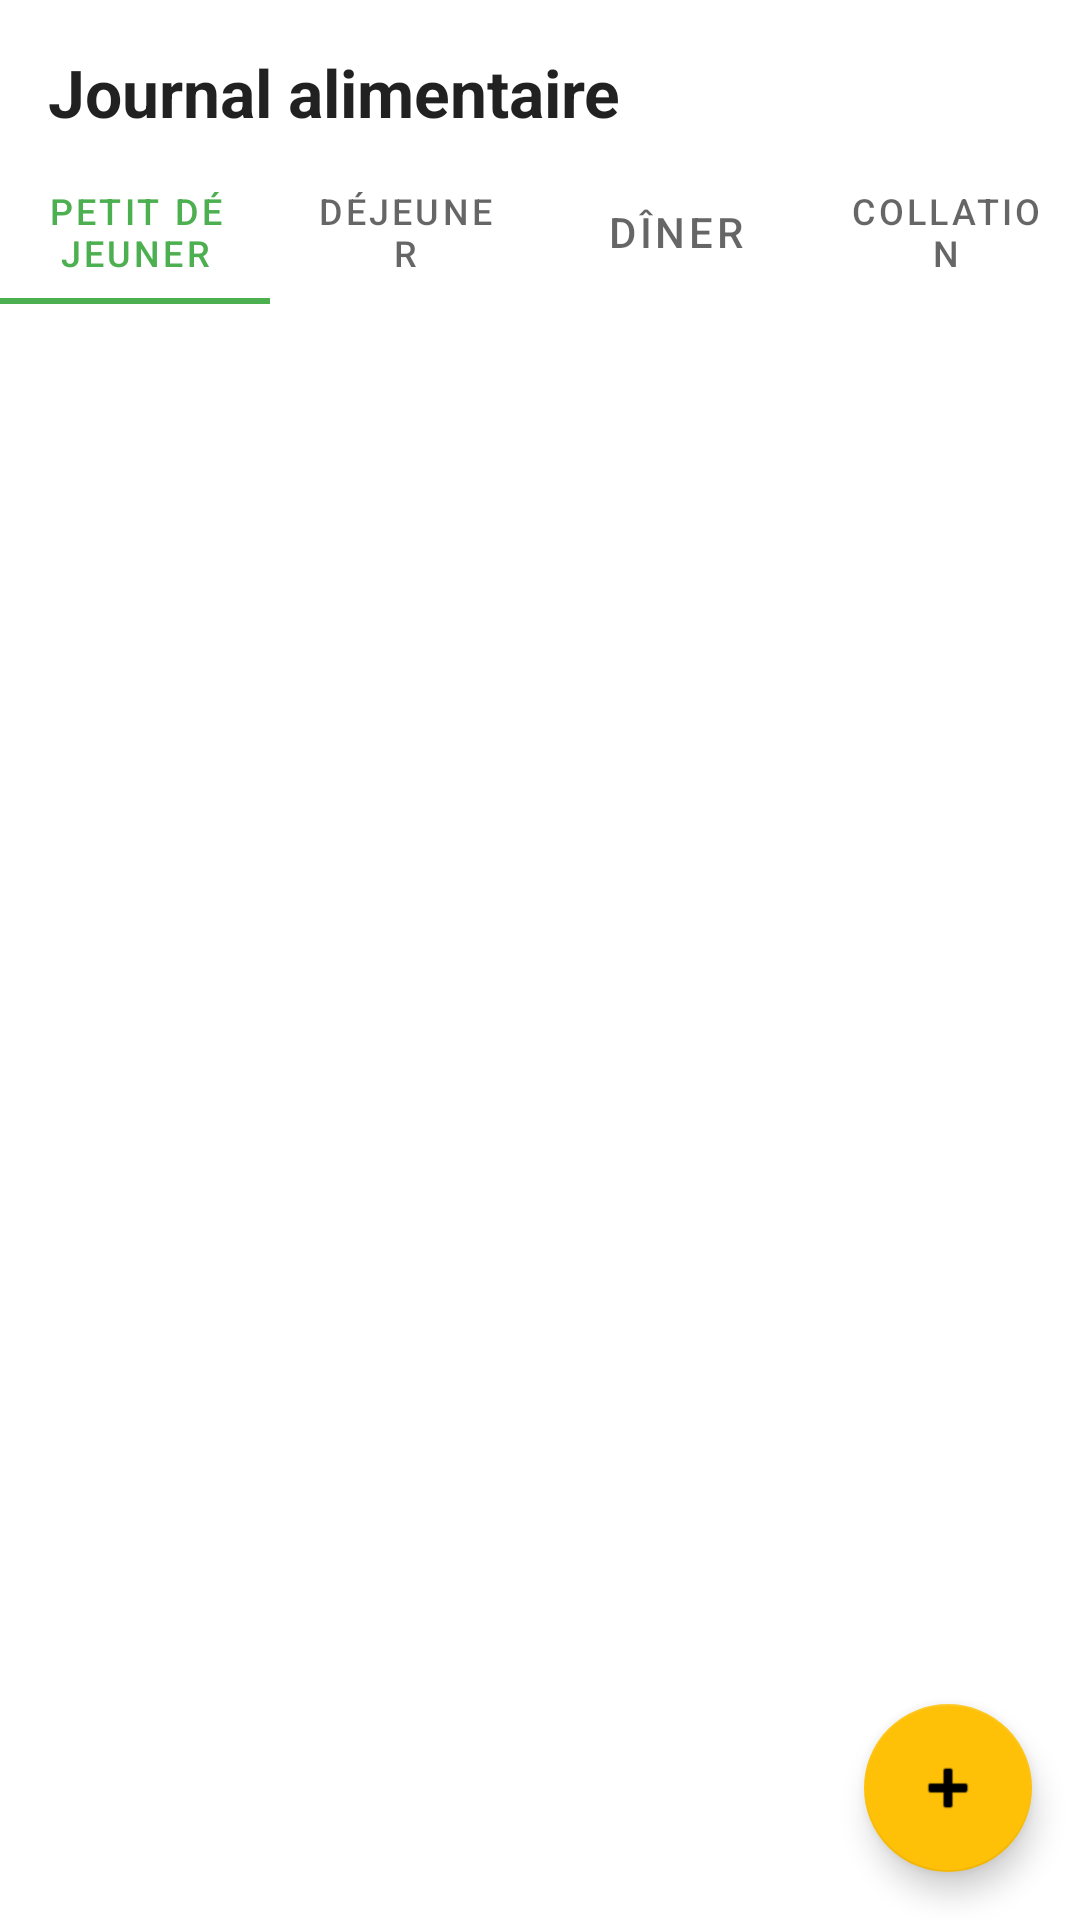

Icons on this 1080w x 1920h Android screen, each with the point to tap as [x,y]:
Ajouter un aliment: [948,1788]
